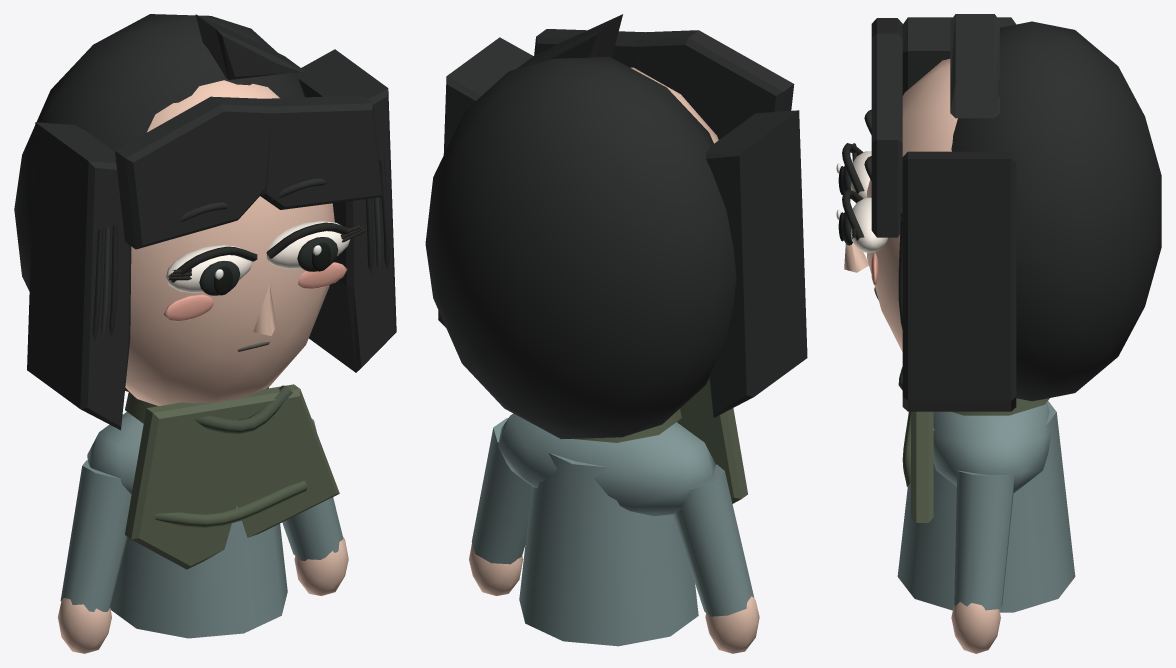
File: bob-girl.glb
The picture shows the model from 3 angles, left to right: view 1: azimuth 30°, elevation 25°; view 2: azimuth 150°, elevation 25°; view 3: azimuth 270°, elevation 25°; orthographic projection. The views are drawn at different scales.
Parts seen in each view (by area): view 1: Bob_Side (×2), Face, Scarf_Drape, Bob_Hair_Back, Fringe_Left, Torso, Fringe_Right, Sleeve_Left, Hand (×2), Cowlick, Sclera (×2), Shoulders (+8 smaller); view 2: Bob_Hair_Back, Bob_Side (×2), Torso, Shoulders, Fringe_Left, Sleeve_Left, Sleeve_Right, Scarf_Drape, Hand (×2), Cowlick, Fringe_Right, Scarf_Collar; view 3: Bob_Hair_Back, Bob_Side (×2), Torso, Shoulders, Sleeve_Right, Face, Fringe_Right, Cowlick, Scarf_Drape, Hand, Fringe_Left, Sclera (×2) (+3 smaller).
Part boxes in pixels (bbox=[...]): Bob_Side (×2): bbox=[27, 49, 396, 430]; Face: bbox=[125, 80, 334, 405]; Scarf_Drape: bbox=[125, 384, 339, 569]; Bob_Hair_Back: bbox=[14, 14, 304, 392]; Fringe_Left: bbox=[115, 96, 274, 249]; Torso: bbox=[110, 506, 287, 638]; Fringe_Right: bbox=[260, 95, 382, 209]; Sleeve_Left: bbox=[60, 460, 131, 611]; Hand (×2): bbox=[57, 537, 348, 653]; Cowlick: bbox=[195, 14, 304, 79]; Sclera (×2): bbox=[165, 221, 350, 293]; Shoulders: bbox=[87, 412, 143, 494]; Bob_Hair_Back: bbox=[425, 56, 736, 439]; Bob_Side (×2): bbox=[438, 37, 807, 417]; Torso: bbox=[519, 453, 698, 646]; Shoulders: bbox=[498, 413, 715, 516]; Fringe_Left: bbox=[635, 30, 794, 139]; Sleeve_Left: bbox=[673, 464, 754, 616]; Sleeve_Right: bbox=[471, 418, 531, 564]; Scarf_Drape: bbox=[677, 378, 747, 503]; Hand (×2): bbox=[469, 543, 759, 653]; Cowlick: bbox=[516, 14, 622, 68]; Fringe_Right: bbox=[534, 29, 644, 70]; Scarf_Collar: bbox=[573, 409, 681, 442]; Bob_Hair_Back: bbox=[951, 21, 1161, 401]; Bob_Side (×2): bbox=[902, 17, 1016, 411]; Torso: bbox=[897, 401, 1075, 612]; Shoulders: bbox=[933, 402, 1051, 493]; Sleeve_Right: bbox=[954, 470, 1014, 610]; Face: bbox=[867, 58, 957, 351]; Fringe_Right: bbox=[871, 73, 902, 237]; Cowlick: bbox=[950, 14, 999, 118]; Scarf_Drape: bbox=[911, 411, 933, 522]; Hand: bbox=[951, 602, 1000, 653]; Fringe_Left: bbox=[871, 18, 902, 73]; Sclera (×2): bbox=[850, 151, 887, 252].
Size of the model in its own units: 1.71 by 3.12 by 1.57.
